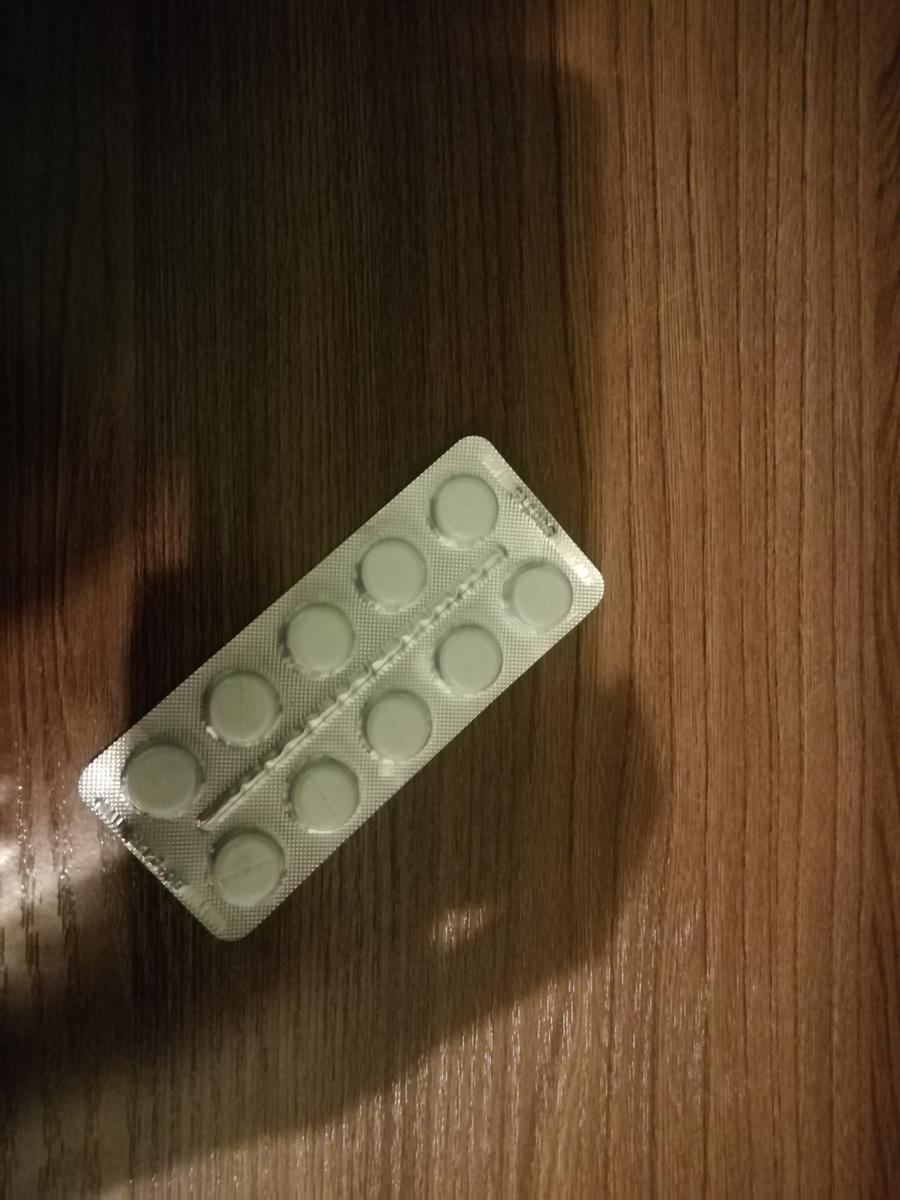tablet: (426, 468, 504, 548), (501, 557, 579, 637), (348, 542, 426, 622), (432, 621, 510, 701), (281, 605, 359, 685), (350, 680, 428, 760), (200, 668, 278, 748), (290, 756, 368, 836), (118, 737, 196, 817), (204, 825, 282, 905)
